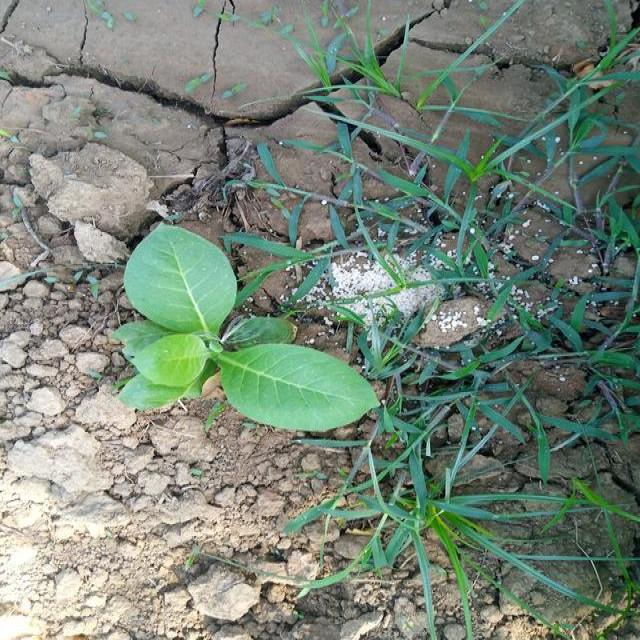crop: (114, 223, 387, 430)
